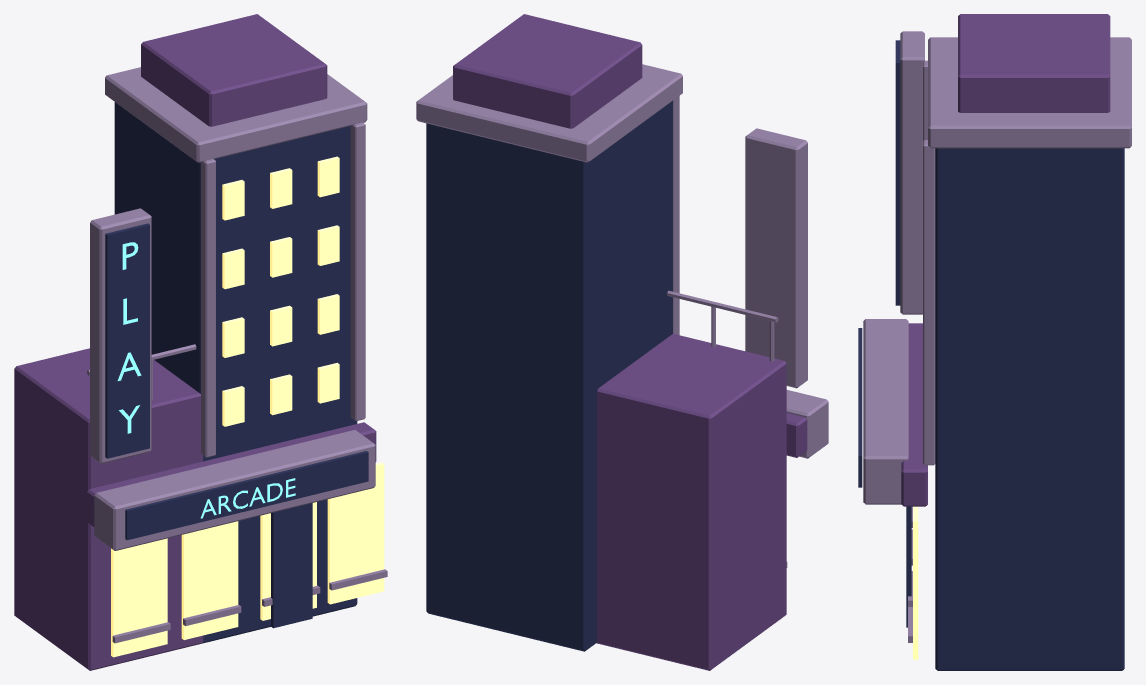
The model's file is sfv2_deco_arcade.glb.
3 views of the same model, side by side, from view 1: azimuth 30°, elevation 25°; view 2: azimuth 150°, elevation 25°; view 3: azimuth 270°, elevation 25° (orthographic). The views are drawn at different scales.
Parts seen in each view (by area): view 1: sfv2_deco_arcade__sf_midnight_blue, sfv2_deco_arcade__sf_violet_stucco, sfv2_deco_arcade__sf_lavender_trim, sfv2_deco_arcade__sf_emissive_window, sfv2_deco_arcade__sf_emissive_cyan; view 2: sfv2_deco_arcade__sf_midnight_blue, sfv2_deco_arcade__sf_violet_stucco, sfv2_deco_arcade__sf_lavender_trim; view 3: sfv2_deco_arcade__sf_midnight_blue, sfv2_deco_arcade__sf_lavender_trim, sfv2_deco_arcade__sf_violet_stucco, sfv2_deco_arcade__sf_emissive_window.
Boxes of the visible parts, left/top/right/bottom form: sfv2_deco_arcade__sf_midnight_blue: left=105, top=102, right=368, bottom=642; sfv2_deco_arcade__sf_violet_stucco: left=14, top=14, right=376, bottom=670; sfv2_deco_arcade__sf_lavender_trim: left=87, top=67, right=387, bottom=643; sfv2_deco_arcade__sf_emissive_window: left=111, top=156, right=384, bottom=657; sfv2_deco_arcade__sf_emissive_cyan: left=117, top=242, right=295, bottom=518; sfv2_deco_arcade__sf_midnight_blue: left=426, top=101, right=672, bottom=651; sfv2_deco_arcade__sf_violet_stucco: left=453, top=14, right=807, bottom=670; sfv2_deco_arcade__sf_lavender_trim: left=416, top=64, right=828, bottom=567; sfv2_deco_arcade__sf_midnight_blue: left=858, top=40, right=1124, bottom=670; sfv2_deco_arcade__sf_lavender_trim: left=863, top=31, right=1131, bottom=642; sfv2_deco_arcade__sf_violet_stucco: left=901, top=14, right=1110, bottom=506; sfv2_deco_arcade__sf_emissive_window: left=913, top=506, right=918, bottom=659.
Bounding box in the file's own units: 24.82 × 43.53 × 18.51.
